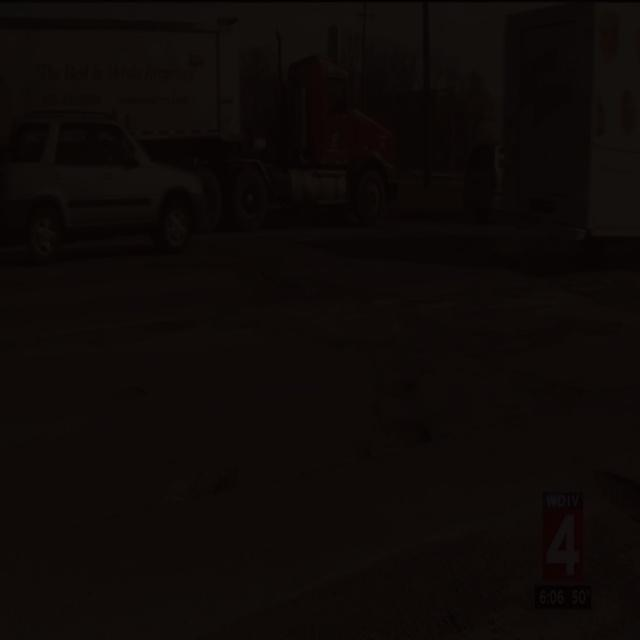Pothole: (512, 350, 640, 422), (362, 373, 440, 465), (144, 454, 250, 508), (39, 320, 215, 346), (583, 460, 640, 536), (498, 314, 622, 345), (110, 376, 160, 411)
